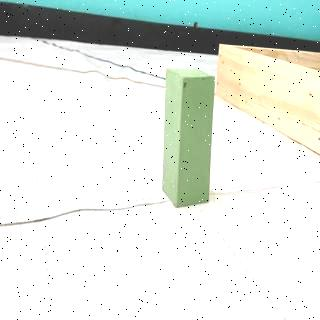greenbox: (160, 66, 217, 211)
